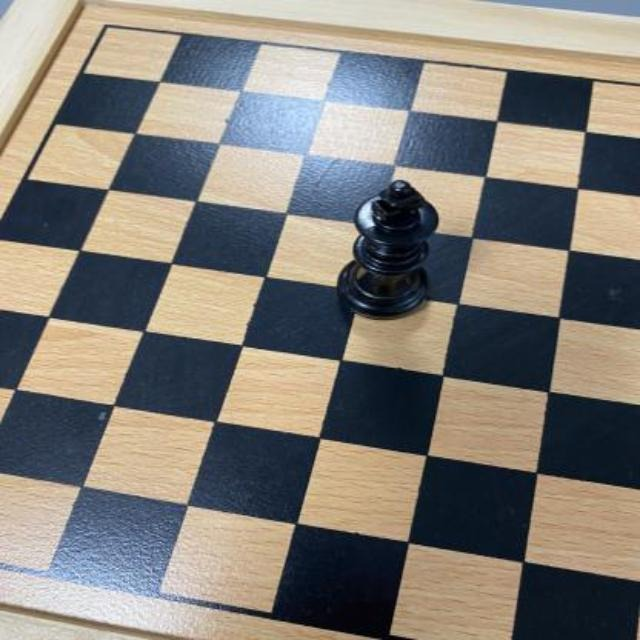black-king: (338, 179, 439, 319)
